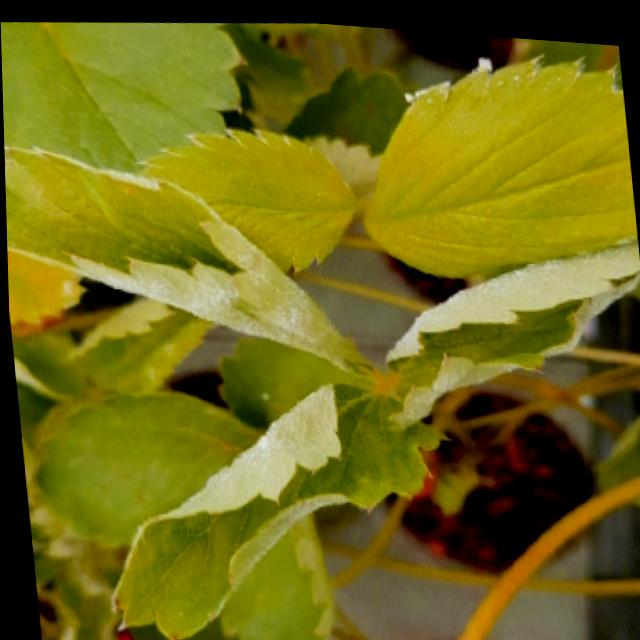Powdery Mildew Leaf: (106, 371, 446, 640), (3, 143, 370, 374), (357, 44, 637, 275), (380, 230, 640, 429)
